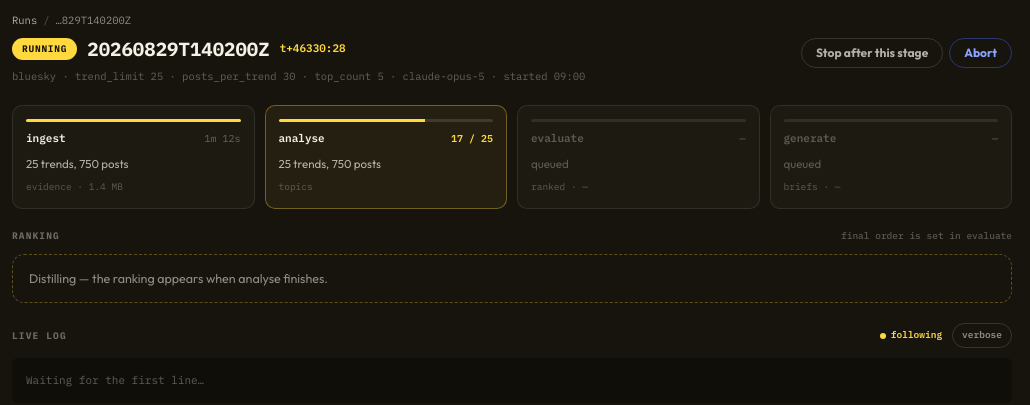
Scenario: RunDetailPage › acknowledges a pending abort, and disables stop along with it
The width and height of the screenshot is (1030, 405).
Click the button "Abort": (981, 53) [949, 38, 1012, 68]
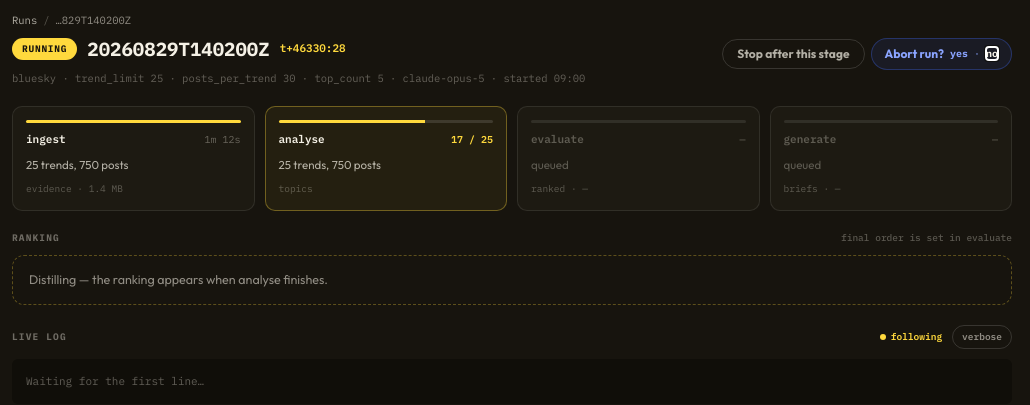
Click the button "yes": (959, 54) [950, 49, 968, 59]
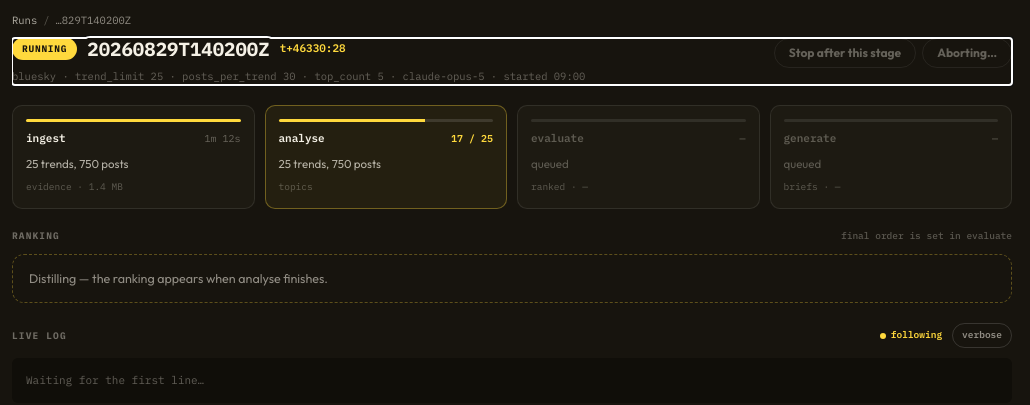
expect the button "Aborting…" is disabled: met, box [922, 38, 1012, 68]
expect the button "Stop after this stage" is disabled: met, box [774, 38, 916, 68]
